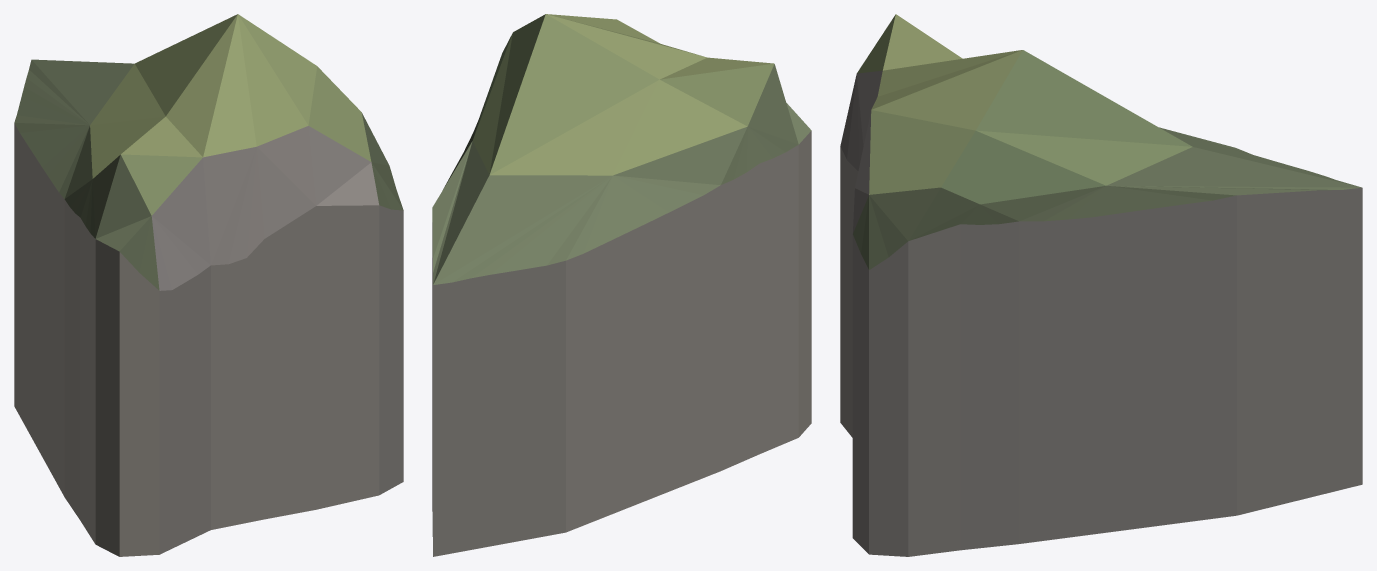
Rendered from cliff_western_slab.glb.
3 renders of one model, left to right at view 1: azimuth 30°, elevation 25°; view 2: azimuth 150°, elevation 25°; view 3: azimuth 270°, elevation 25°, orthographic. The views are drawn at different scales.
Visible parts, largest first — view 1: cliff_western_slab; view 2: cliff_western_slab; view 3: cliff_western_slab.
Boxes of the visible parts, x1=… form: cliff_western_slab: x1=14, y1=14, x2=403, y2=556; cliff_western_slab: x1=432, y1=14, x2=811, y2=556; cliff_western_slab: x1=840, y1=14, x2=1362, y2=556.
Size of the model in its own units: 55.6 by 77.32 by 79.97.
